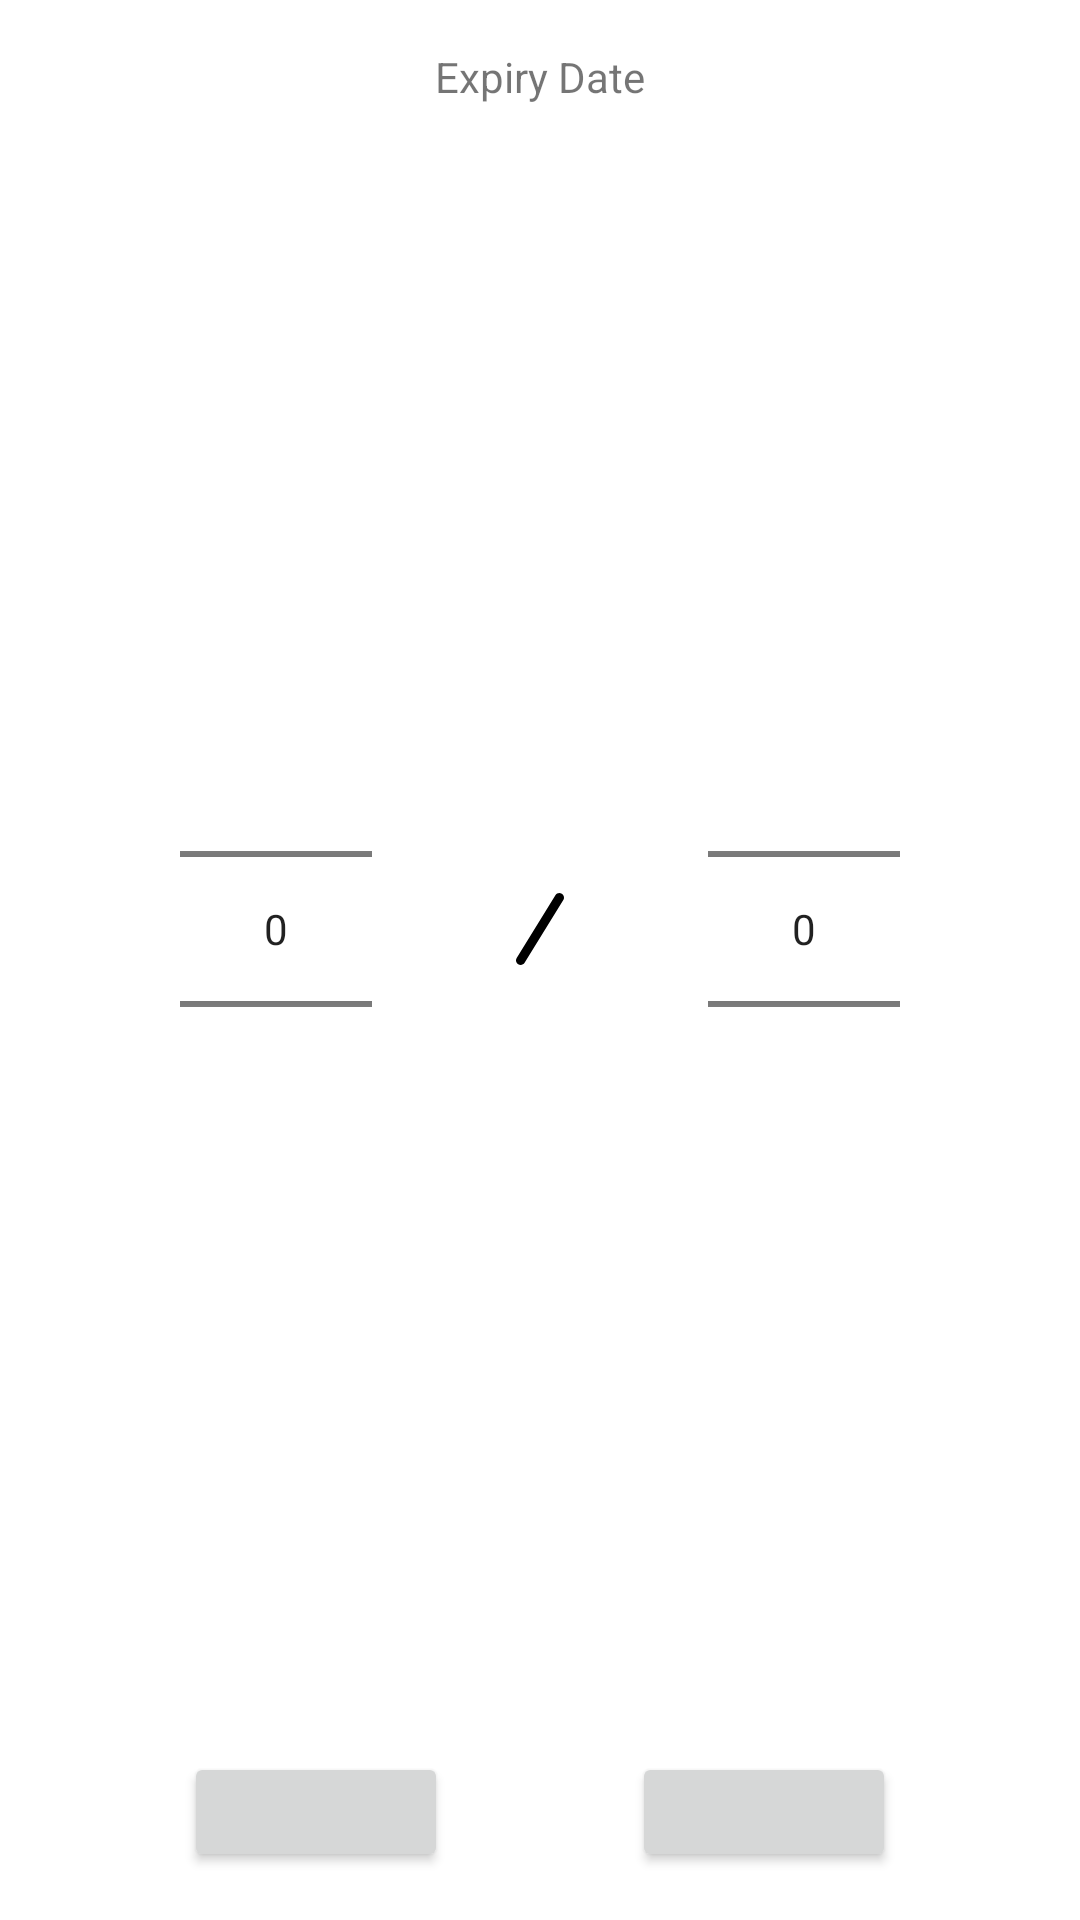

Icons on this 1080x1920 Android screen, each with its box as rect(x1, y1, x2, y2):
slash: rect(516, 893, 564, 965)
